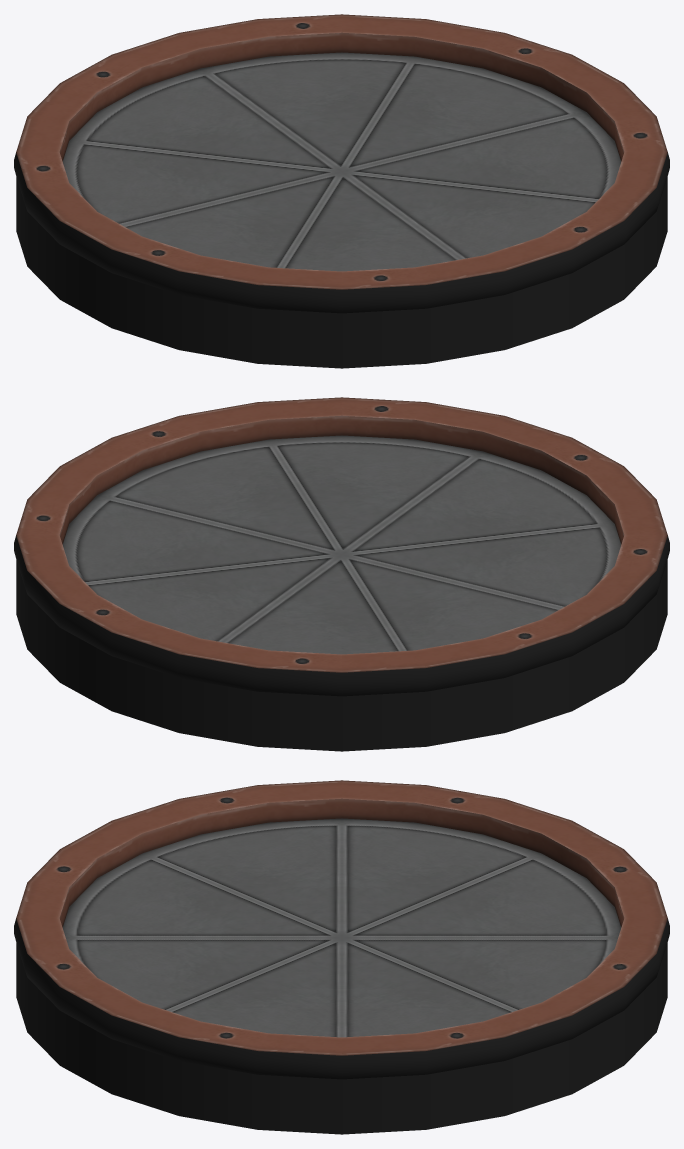
File: aquarius_heatshield_s1p5_1.obj
3 views of the same model, one above another, from view 1: azimuth 30°, elevation 25°; view 2: azimuth 150°, elevation 25°; view 3: azimuth 270°, elevation 25° (orthographic).
Visible parts, largest first — view 1: aquarius_heatshield_s1p5_1, aquarius_heatshield_s1p5_1_fairing; view 2: aquarius_heatshield_s1p5_1, aquarius_heatshield_s1p5_1_fairing; view 3: aquarius_heatshield_s1p5_1, aquarius_heatshield_s1p5_1_fairing.
Boxes of the visible parts, left/top/right/bottom form: aquarius_heatshield_s1p5_1: left=14, top=14, right=669, bottom=313; aquarius_heatshield_s1p5_1_fairing: left=16, top=177, right=667, bottom=368; aquarius_heatshield_s1p5_1: left=14, top=397, right=669, bottom=696; aquarius_heatshield_s1p5_1_fairing: left=16, top=560, right=667, bottom=751; aquarius_heatshield_s1p5_1: left=14, top=780, right=669, bottom=1079; aquarius_heatshield_s1p5_1_fairing: left=16, top=943, right=667, bottom=1134.
Size of the model in its own units: 1.89 by 0.25 by 1.89.
